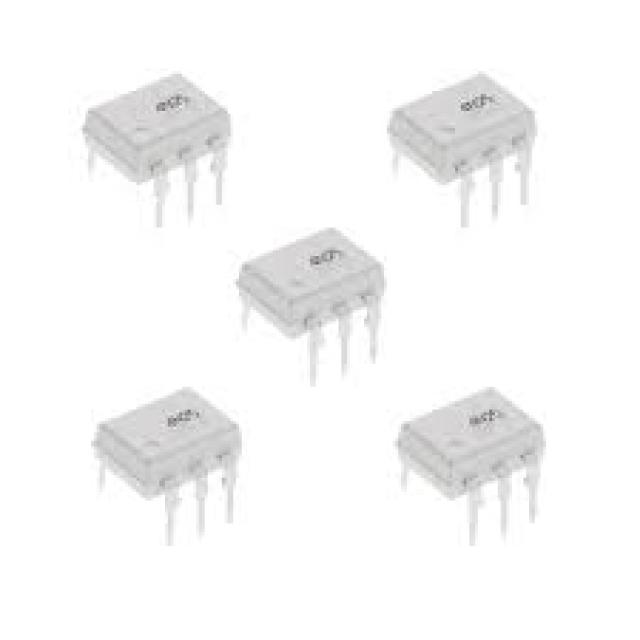IC: (388, 69, 538, 228), (93, 384, 240, 546), (396, 386, 543, 547), (238, 226, 386, 385), (84, 72, 231, 228)
